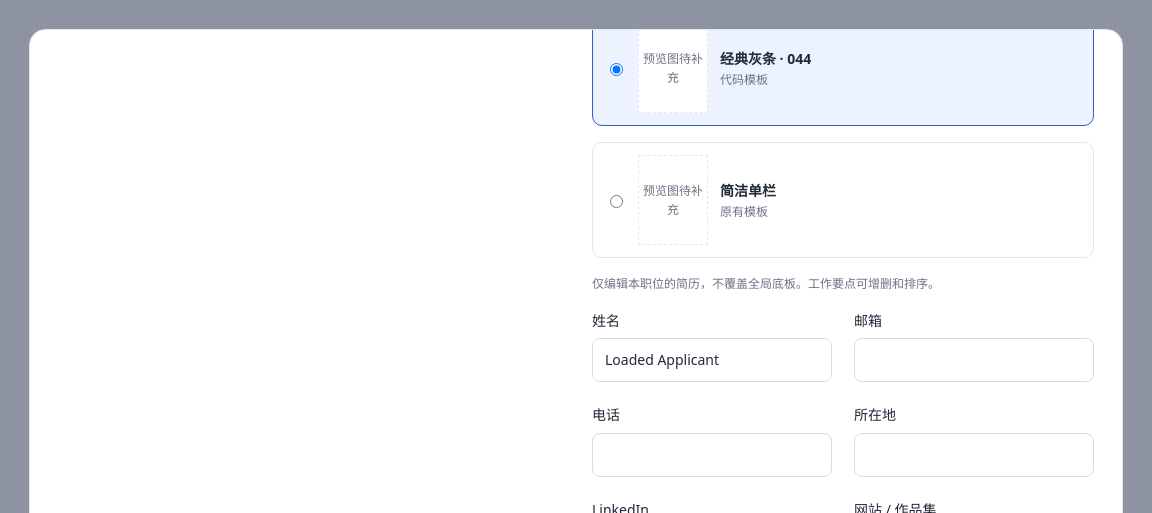
Scenario: job editor and PDF templates › detects base changes without resetting edits, then only fills blank fields from a freshly fetched confirmed source
(page scrolled)
Replace the text in the field labelled "姓名" with "Manual Applicant": coordinates (712, 360) [592,338,832,382]
Wait 10000 ms
(page scrolled)
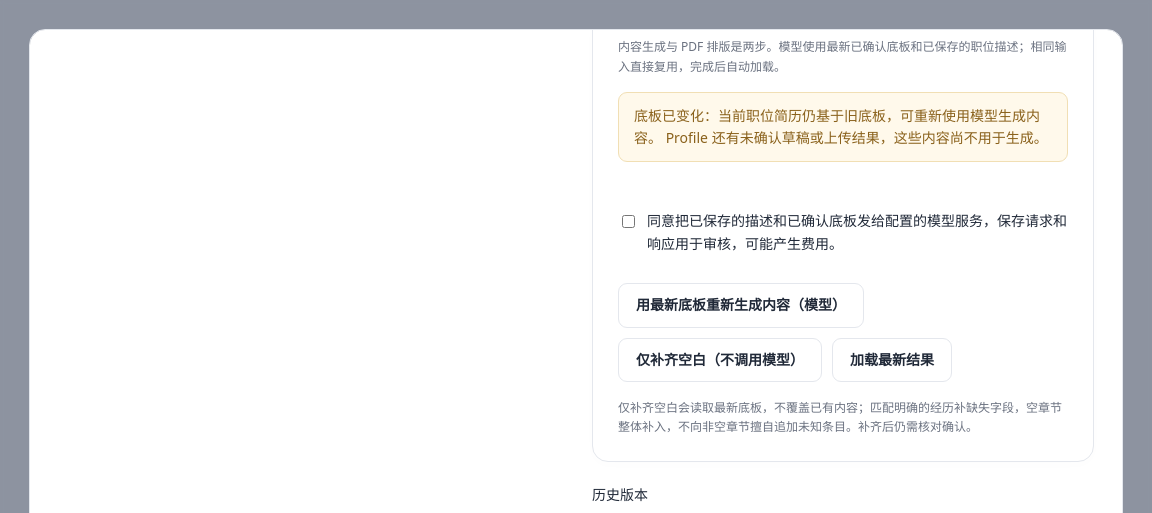
Expected: the element that starts with "底板已变化：当前职位简历仍基于旧底板，可重新使用模型生成内容。" is shown, [634,106,1040,147]
Expected: the element that starts with "底板已变化：当前职位简历仍基于旧底板，可重新使用模型生成内容。" shows "未确认草稿", [666,128,1048,147]
Click the button "仅补齐空白（不调用模型）": coordinates (720, 360) [618,338,822,382]
(page scrolled)
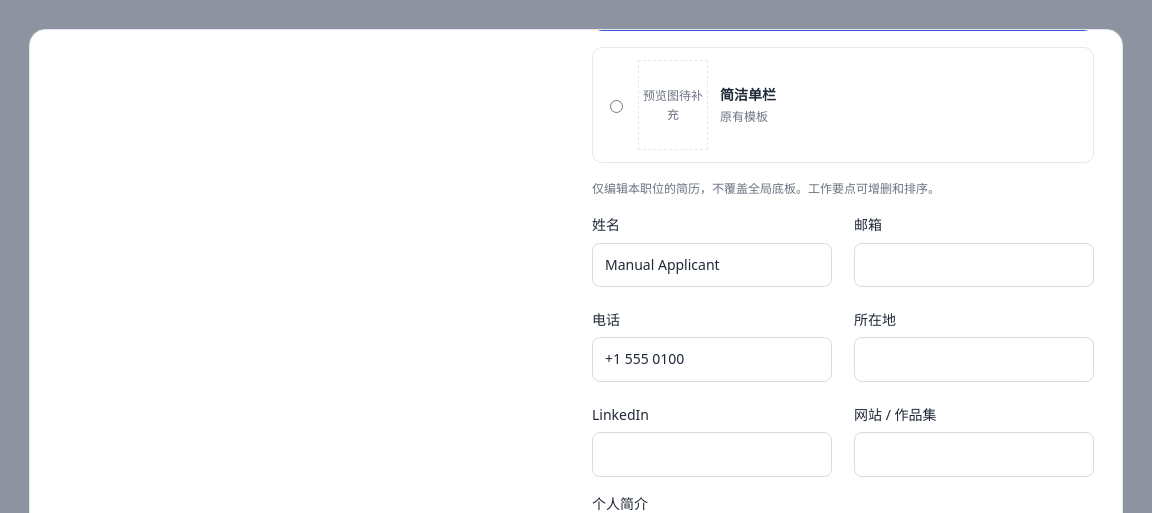
Expected: the field labelled "电话" holds "+1 555 0100", [592,338,832,382]
